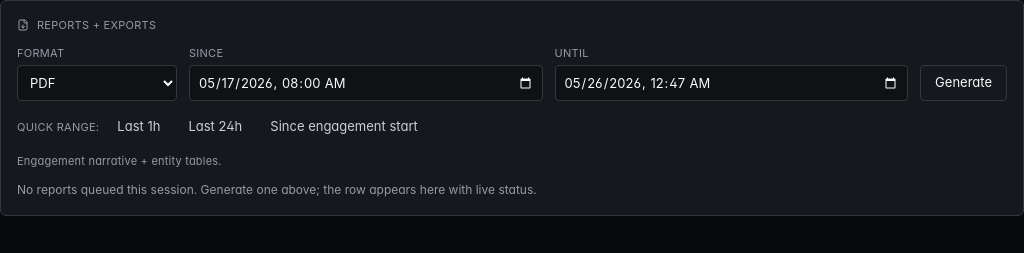
ReportsPanel › shows the PCAP empty-capture warning only when PCAP is selected
This screenshot has width=1024, height=253.
Step 1. Select "PCAP" in the dropdown named "report format" → (97, 83), box x1=17 y1=65 x2=177 y2=101
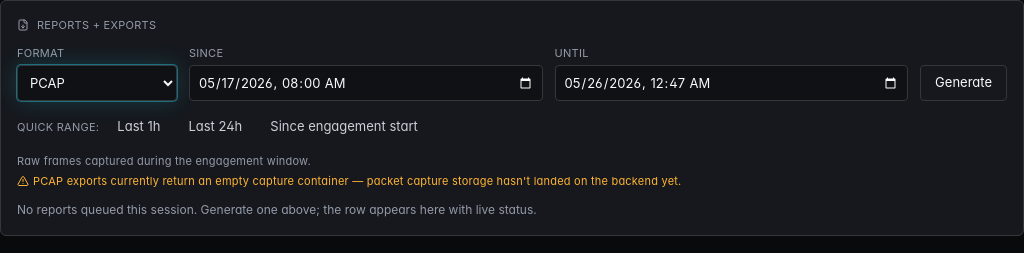
Check: the message with test id "pcap-empty-warning" is shown, box x1=17 y1=174 x2=682 y2=188
